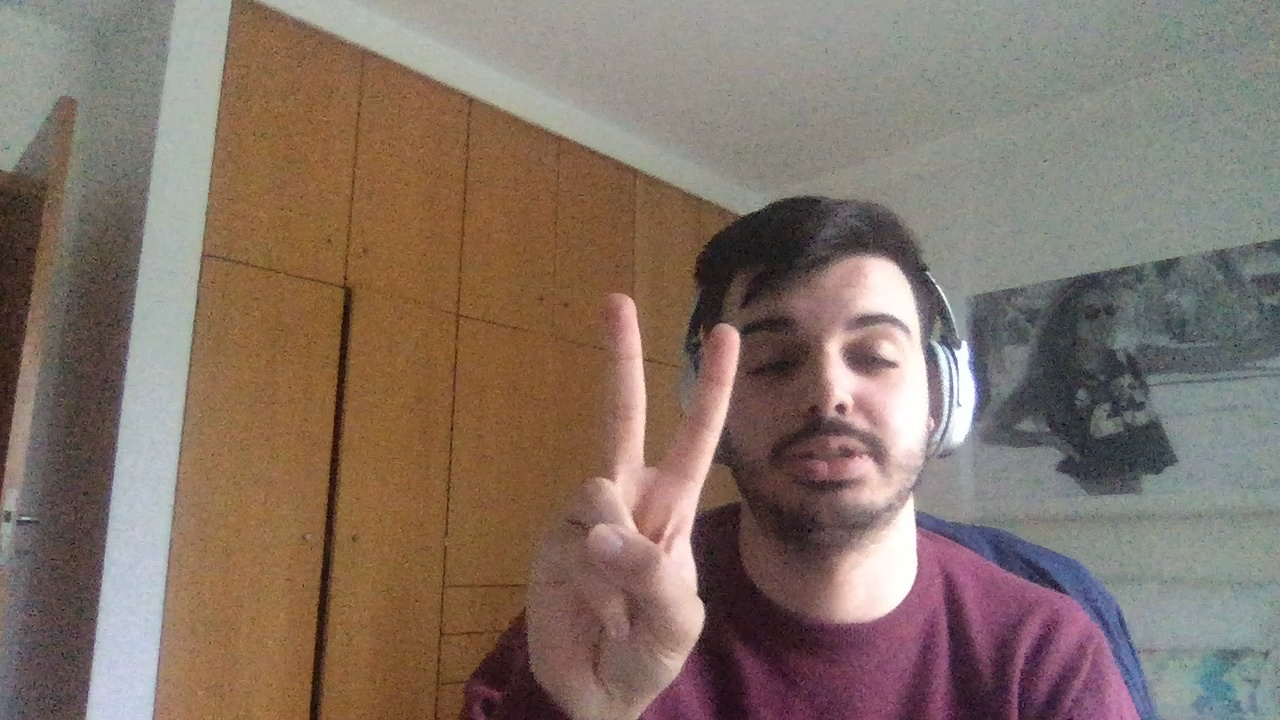Peace: (528, 289, 741, 691)
